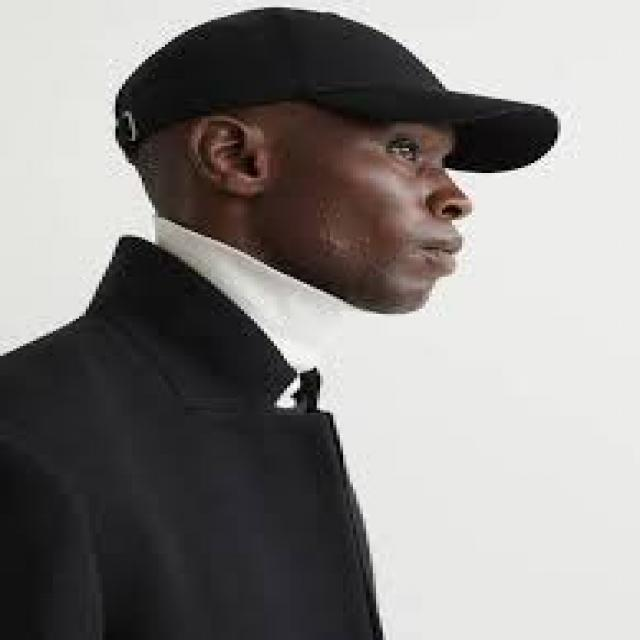suspicious-objects: (119, 7, 558, 172)
